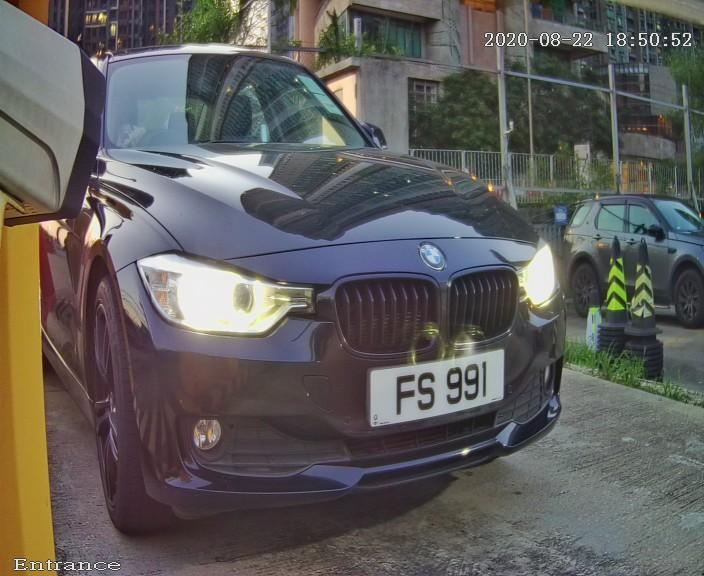Car: (16, 8, 626, 541)
License Plate: (324, 315, 538, 451)
